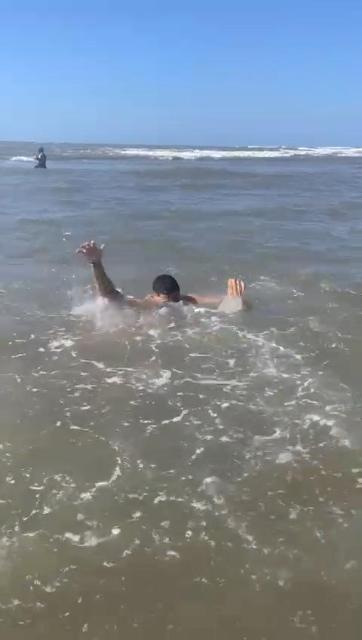drowning: (59, 223, 296, 353)
